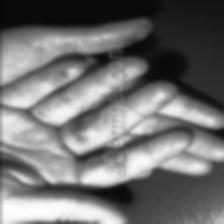Unclassified: (59, 118, 100, 136), (80, 154, 108, 170)
